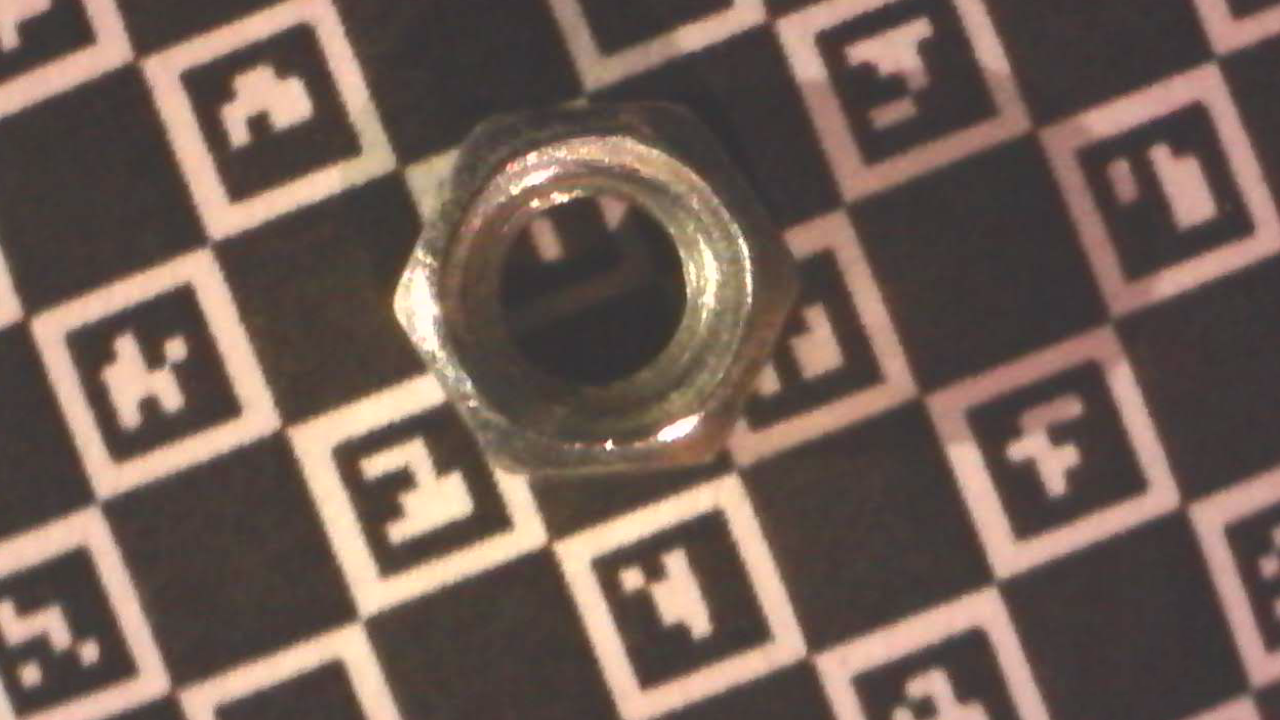Bolt: (390, 98, 808, 472)
